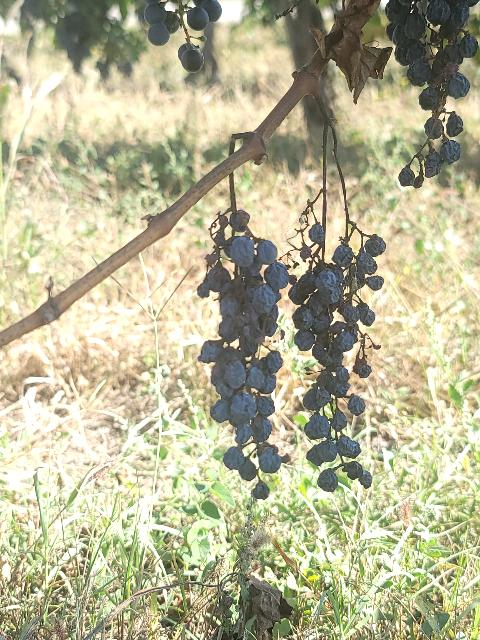grapes: (198, 179, 289, 480), (289, 222, 385, 491)
